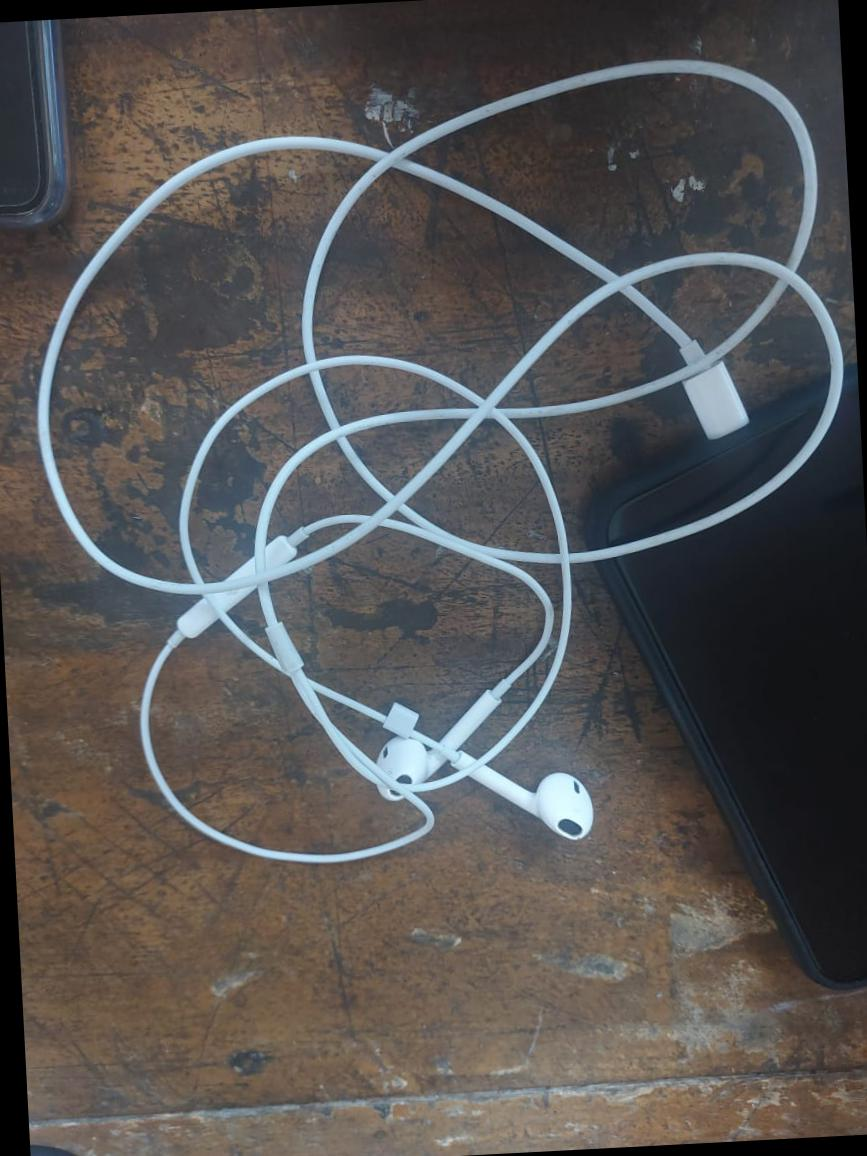Earphone: (444, 726, 610, 861), (358, 680, 514, 802)
